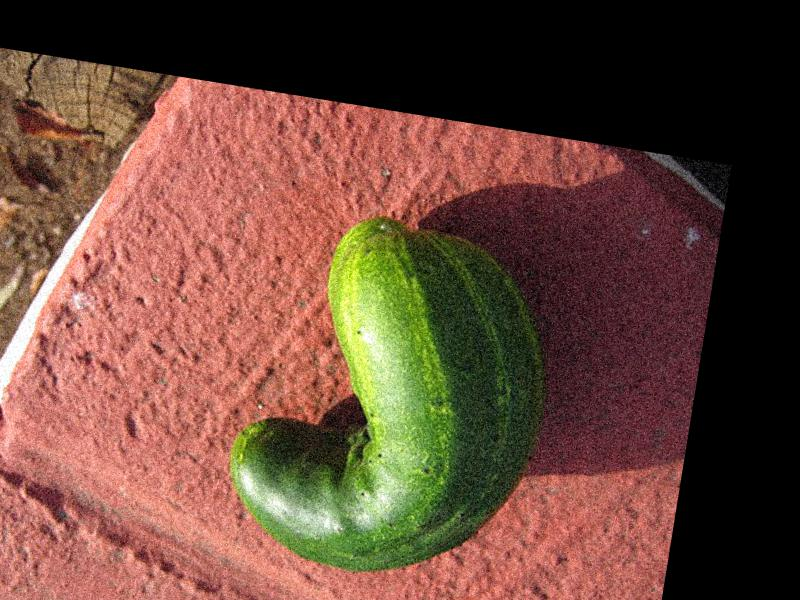Cucumber: (212, 200, 566, 596)
